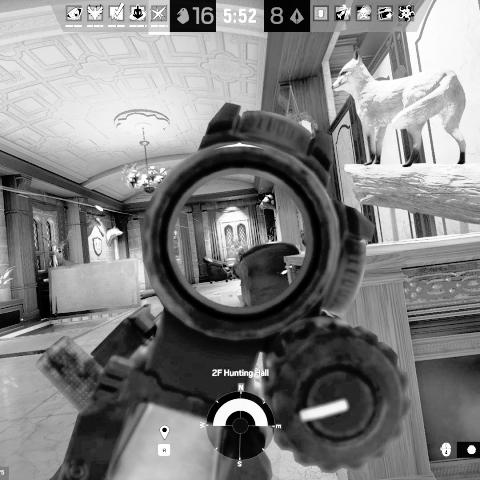Character: (229, 239, 249, 281)
Head: (232, 239, 238, 247)
